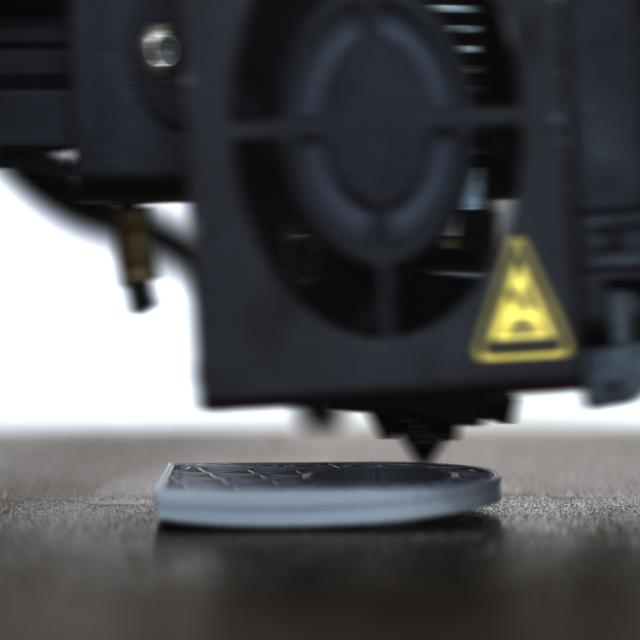Warping: (412, 491, 508, 530)
